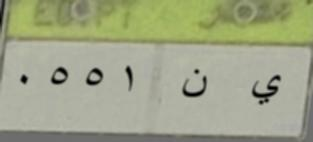0: (15, 66, 34, 91)
1: (118, 60, 139, 94)
5: (46, 62, 72, 90), (80, 66, 107, 91)
noon: (180, 66, 210, 104)
yaa: (247, 66, 283, 110)
